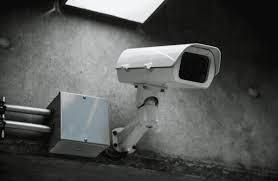Monitor: (110, 24, 239, 152)
